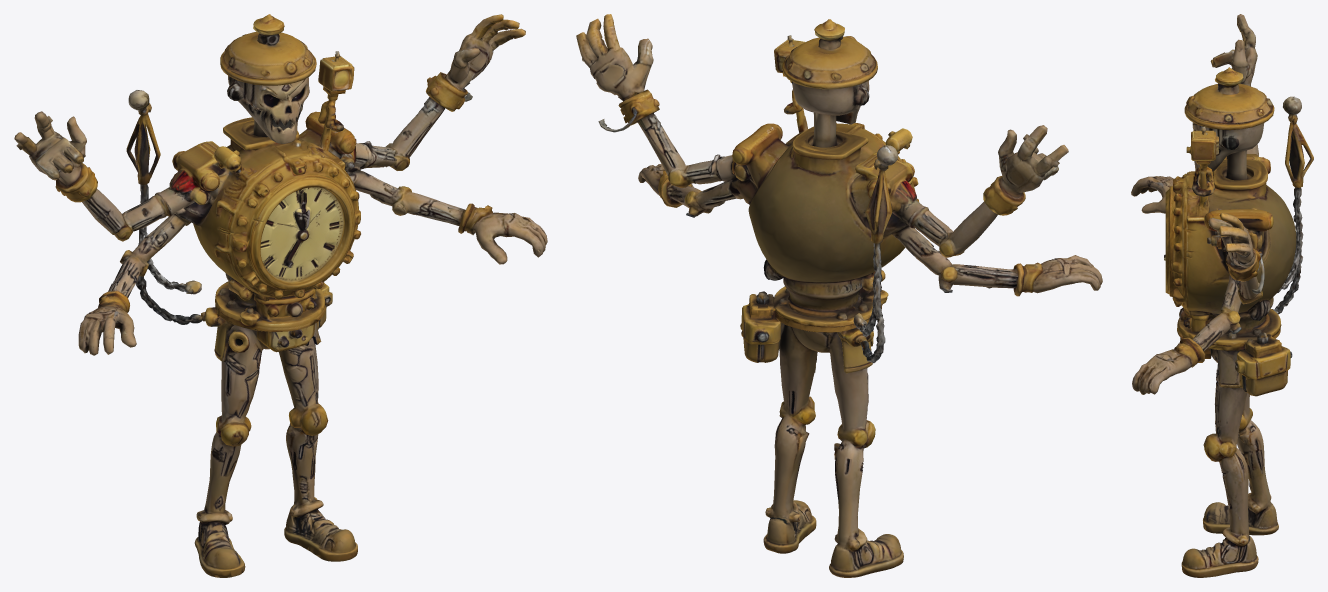
Rendered from repossessor_mk_ix.glb.
3 renders of one model, left to right at view 1: azimuth 30°, elevation 25°; view 2: azimuth 150°, elevation 25°; view 3: azimuth 270°, elevation 25°, orthographic. The views are drawn at different scales.
Visible parts, largest first — view 1: tripo_node_d1d07685-7bdb-4eb2-902d-44bb61b02a9d; view 2: tripo_node_d1d07685-7bdb-4eb2-902d-44bb61b02a9d; view 3: tripo_node_d1d07685-7bdb-4eb2-902d-44bb61b02a9d.
Boxes of the visible parts, x1,y1,x2,y2 form: tripo_node_d1d07685-7bdb-4eb2-902d-44bb61b02a9d: (14, 14, 547, 577); tripo_node_d1d07685-7bdb-4eb2-902d-44bb61b02a9d: (576, 14, 1102, 577); tripo_node_d1d07685-7bdb-4eb2-902d-44bb61b02a9d: (1131, 14, 1313, 577).
Size of the model in its own units: 0.9581 by 0.9791 by 0.3376.
1 material, 1 textured.
